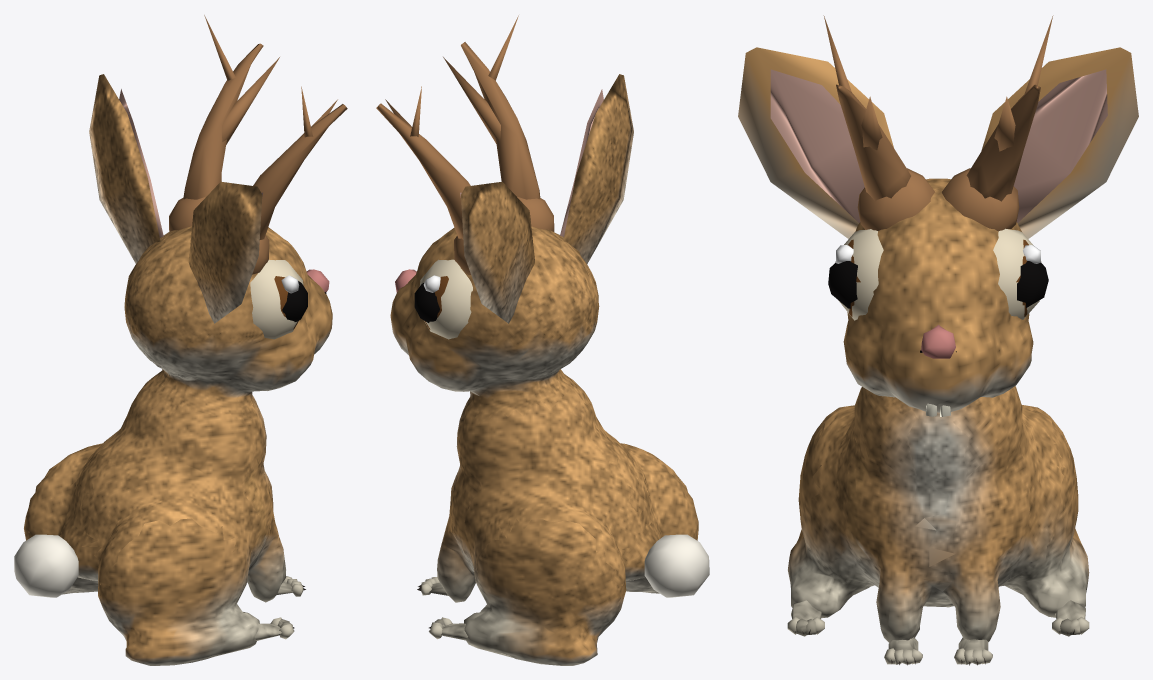
File: jackalope.glb
3 views of the same model, side by side, from view 1: azimuth 30°, elevation 25°; view 2: azimuth 150°, elevation 25°; view 3: azimuth 270°, elevation 25° (orthographic). The views are drawn at different scales.
Parts seen in each view (by area): view 1: jackalope.001; view 2: jackalope.001; view 3: jackalope.001.
Boxes of the visible parts, x1,y1,x2,y2 form: jackalope.001: (14, 15, 347, 665); jackalope.001: (376, 15, 709, 665); jackalope.001: (738, 15, 1138, 665).
Bounding box in the file's own units: 0.538 × 0.914 × 0.516.
Materials: 12 (1 with a texture image).
